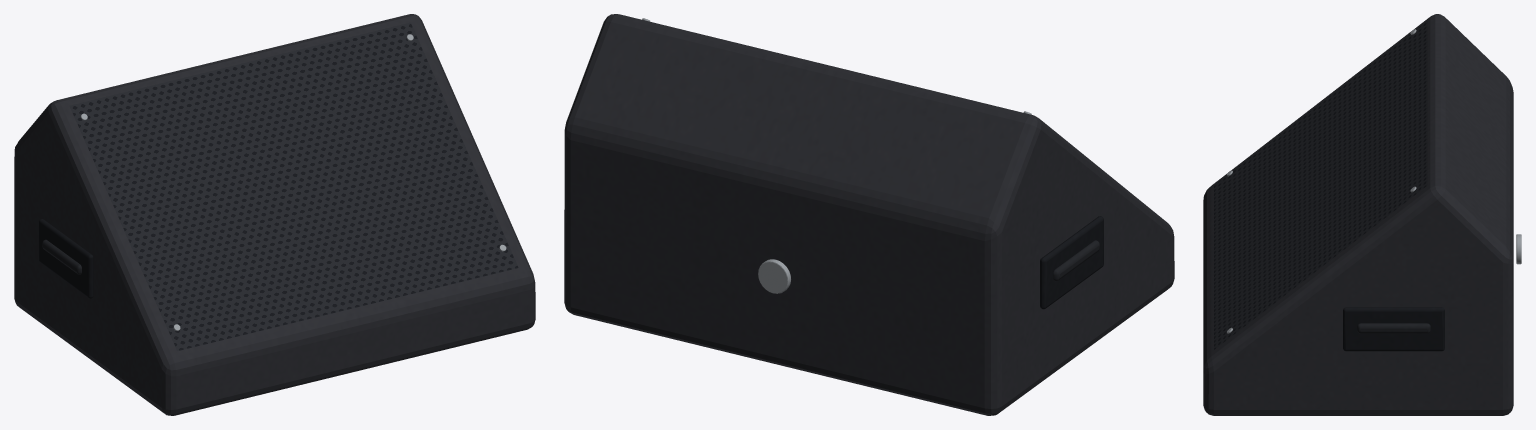
Rendered from 10_stage_wedge_monitor.glb.
3 views of the same model, side by side, from view 1: azimuth 30°, elevation 25°; view 2: azimuth 150°, elevation 25°; view 3: azimuth 270°, elevation 25° (orthographic). The views are drawn at different scales.
Parts seen in each view (by area): view 1: 10_stage_wedge_monitor__perforated_grille, 10_stage_wedge_monitor__wedge_cabinet, 10_stage_wedge_monitor__recessed_handle; view 2: 10_stage_wedge_monitor__wedge_cabinet, 10_stage_wedge_monitor__recessed_handle, 10_stage_wedge_monitor__input_socket, 10_stage_wedge_monitor__handle_bar; view 3: 10_stage_wedge_monitor__wedge_cabinet, 10_stage_wedge_monitor__perforated_grille, 10_stage_wedge_monitor__recessed_handle.001, 10_stage_wedge_monitor__handle_bar.001.
Boxes of the visible parts, x1,y1,x2,y2 form: 10_stage_wedge_monitor__perforated_grille: [69, 22, 518, 351]; 10_stage_wedge_monitor__wedge_cabinet: [14, 14, 535, 415]; 10_stage_wedge_monitor__recessed_handle: [39, 219, 93, 298]; 10_stage_wedge_monitor__wedge_cabinet: [564, 14, 1174, 415]; 10_stage_wedge_monitor__recessed_handle: [1040, 216, 1103, 309]; 10_stage_wedge_monitor__input_socket: [758, 259, 790, 293]; 10_stage_wedge_monitor__handle_bar: [1053, 240, 1099, 281]; 10_stage_wedge_monitor__wedge_cabinet: [1203, 14, 1513, 415]; 10_stage_wedge_monitor__perforated_grille: [1214, 21, 1427, 349]; 10_stage_wedge_monitor__recessed_handle.001: [1343, 307, 1444, 351]; 10_stage_wedge_monitor__handle_bar.001: [1357, 323, 1430, 333].
Bounding box in the file's own units: 0.509 × 0.29 × 0.359.
5 materials, 5 textured.
